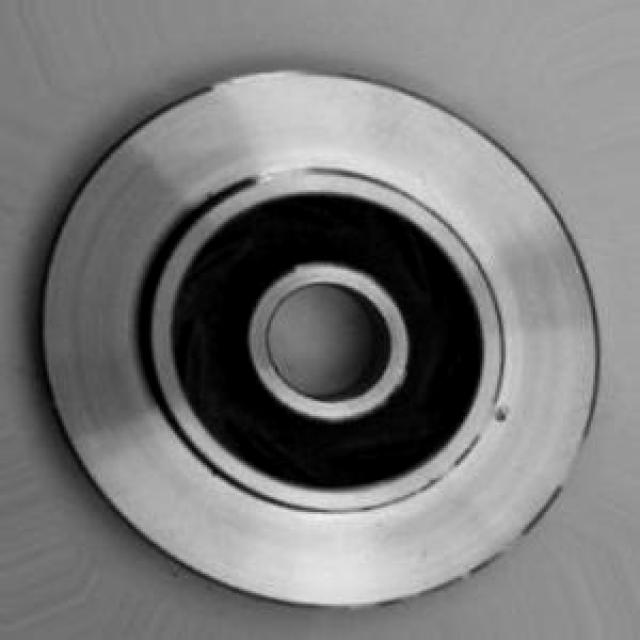Defect: (482, 392, 523, 434)
